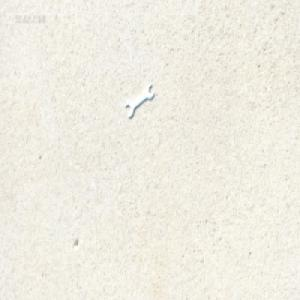Wrench: (125, 82, 156, 118)
